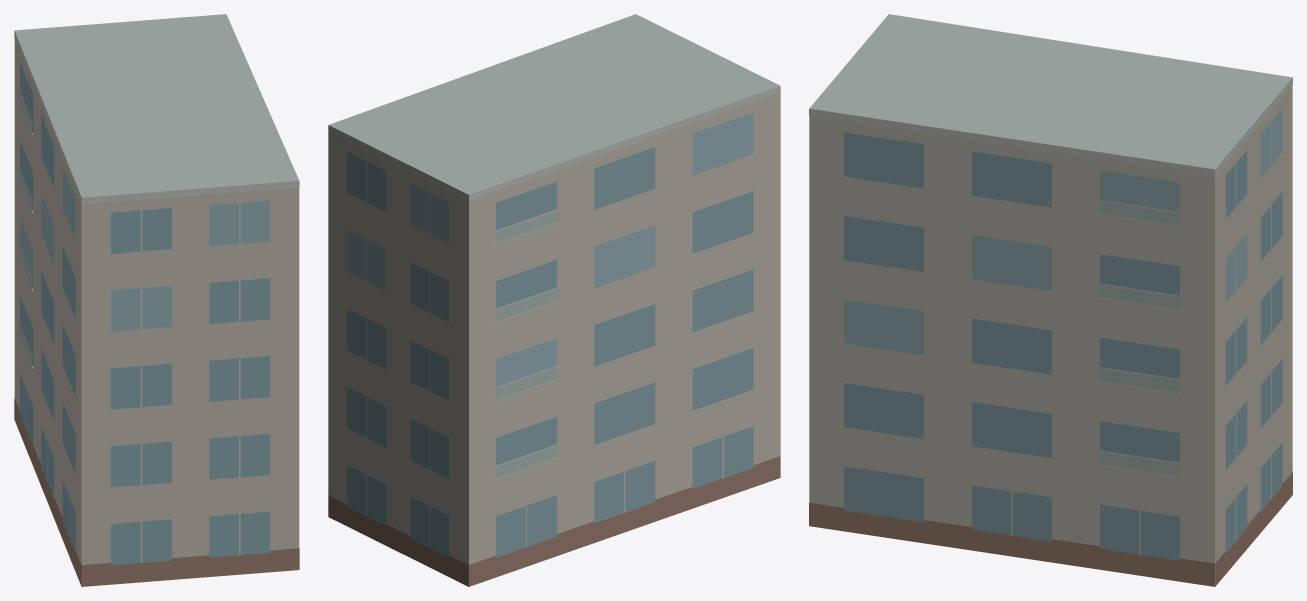
The model's file is survey-upis-32892583.glb.
3 views of the same model, side by side, from view 1: azimuth 30°, elevation 25°; view 2: azimuth 150°, elevation 25°; view 3: azimuth 270°, elevation 25° (orthographic). The views are drawn at different scales.
Parts seen in each view (by area): view 1: survey-upis-32892583.tmp; view 2: survey-upis-32892583.tmp; view 3: survey-upis-32892583.tmp.
Part boxes in pixels (x1=…): survey-upis-32892583.tmp: x1=14, y1=14, x2=299, y2=586; survey-upis-32892583.tmp: x1=328, y1=14, x2=780, y2=586; survey-upis-32892583.tmp: x1=809, y1=14, x2=1292, y2=586.
Bounding box in the file's own units: 11.34 × 14.2 × 14.92.
